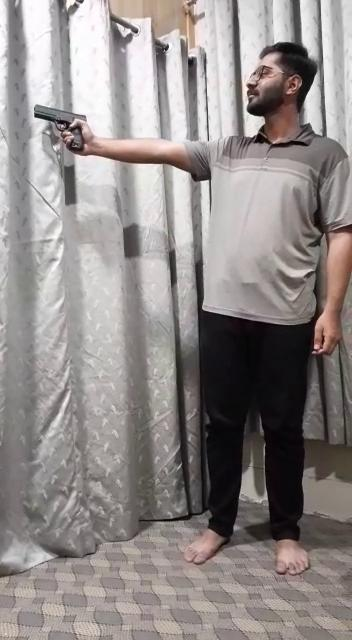criminal: (30, 39, 352, 579)
weapon: (32, 102, 93, 156)
